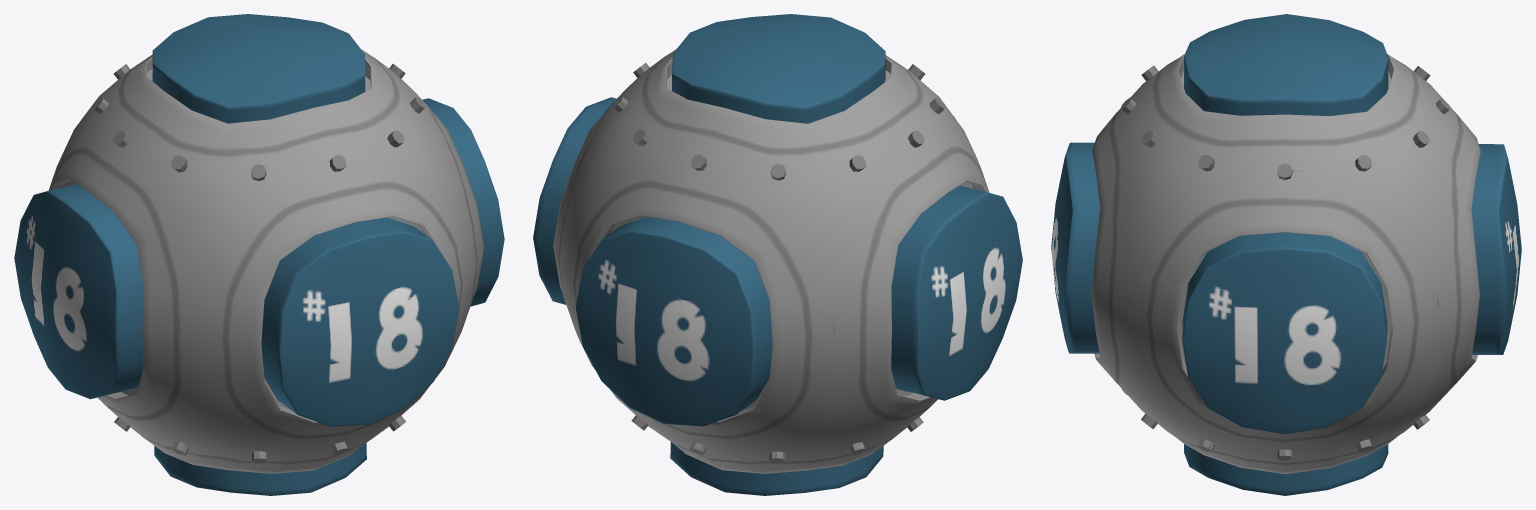
File: Hero.FBX
3 views of the same model, side by side, from view 1: azimuth 30°, elevation 25°; view 2: azimuth 150°, elevation 25°; view 3: azimuth 270°, elevation 25° (orthographic).
Visible parts, largest first — view 1: Hero; view 2: Hero; view 3: Hero.
Part boxes in pixels (x1,y1,x2,y2): Hero: [14, 14, 504, 495]; Hero: [533, 14, 1022, 495]; Hero: [1051, 14, 1521, 495].
Bounding box in the file's own units: 76.8 × 75.91 × 76.81.
